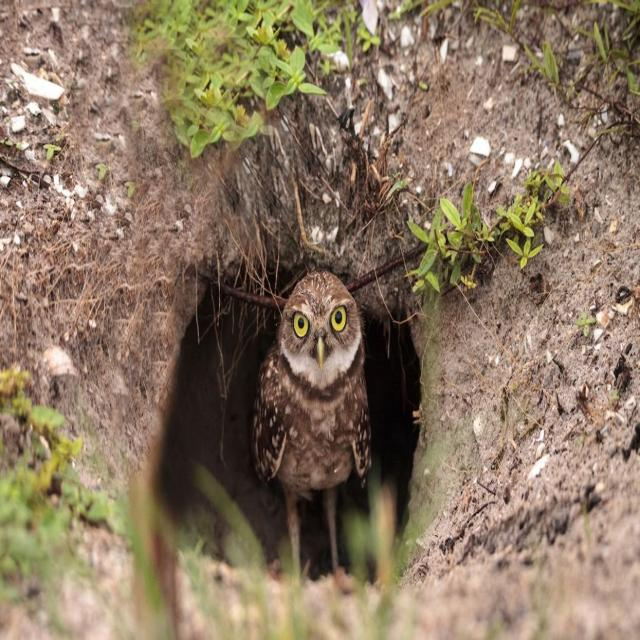Owl: (249, 258, 379, 574)
